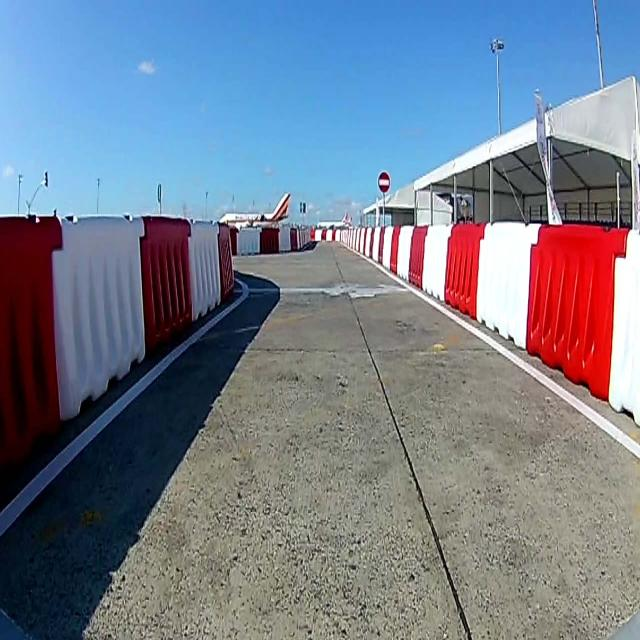girisyok: (377, 171, 391, 193)
